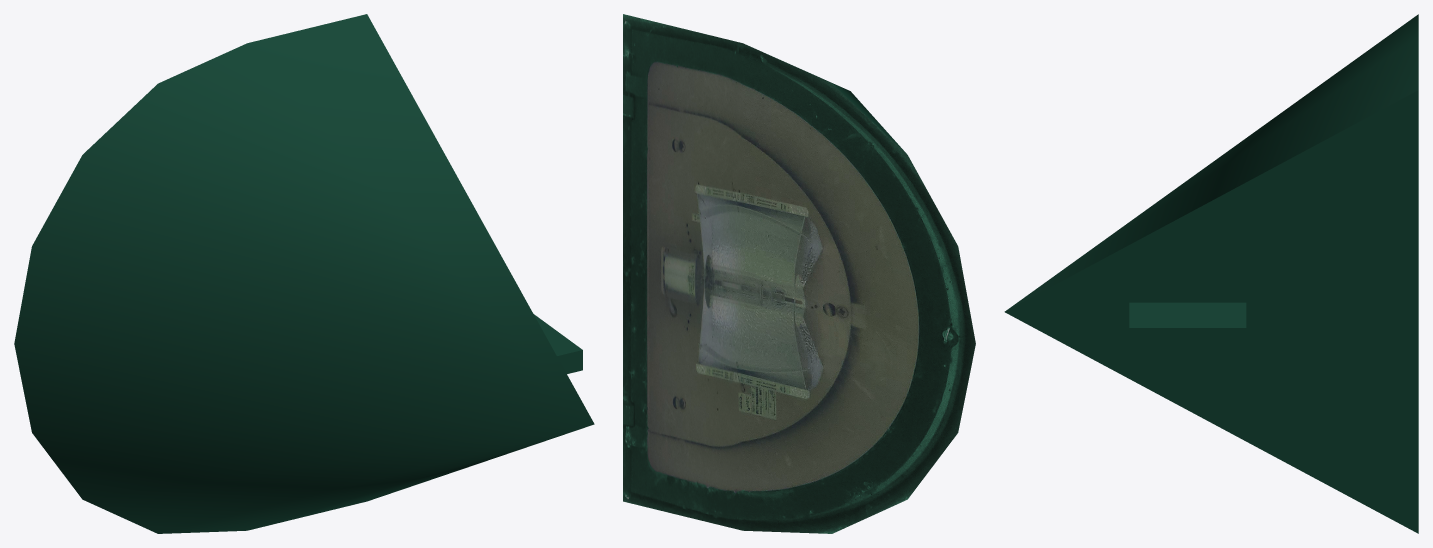
Rendered from Campus.obj.
The picture shows the model from 3 angles, left to right: view 1: azimuth 30°, elevation 25°; view 2: azimuth 150°, elevation 25°; view 3: azimuth 270°, elevation 25°; orthographic projection. The views are drawn at different scales.
Parts seen in each view (by area): view 1: Cylinder; view 2: Cylinder; view 3: Cylinder.
Part boxes in pixels (box(x1,y1,x2,y2)): Cylinder: box(14, 14, 594, 533); Cylinder: box(623, 14, 975, 533); Cylinder: box(1004, 14, 1418, 533).
Bounding box in the file's own units: 0.4574 × 0.52 × 0.44.
2 materials, 2 textured.
